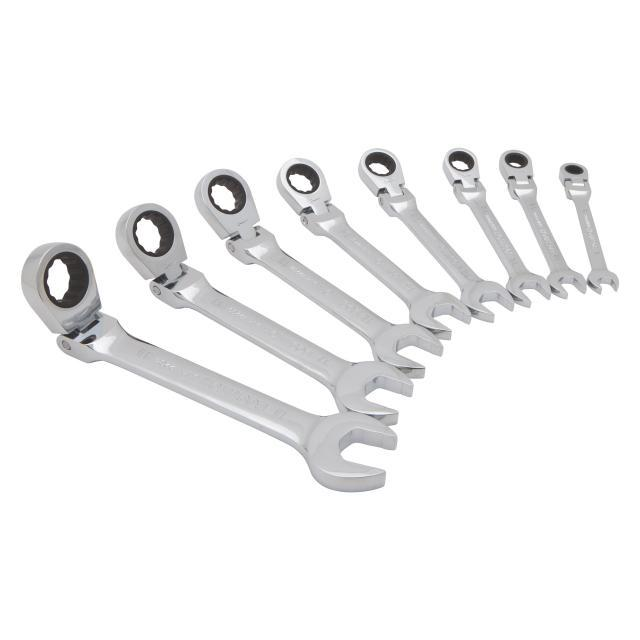wrench: (12, 236, 399, 497), (109, 196, 417, 423), (190, 164, 444, 378), (271, 154, 474, 340), (356, 145, 516, 324), (441, 143, 555, 312), (495, 143, 587, 301), (556, 160, 622, 296)
